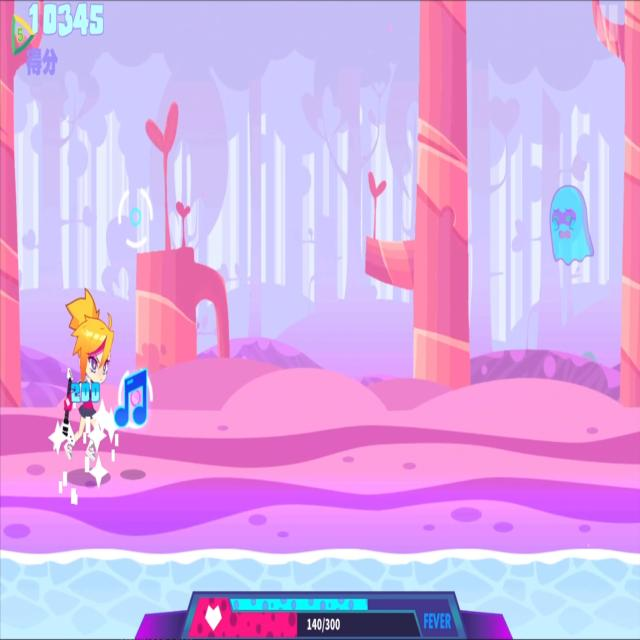gui: (547, 180, 596, 273)
